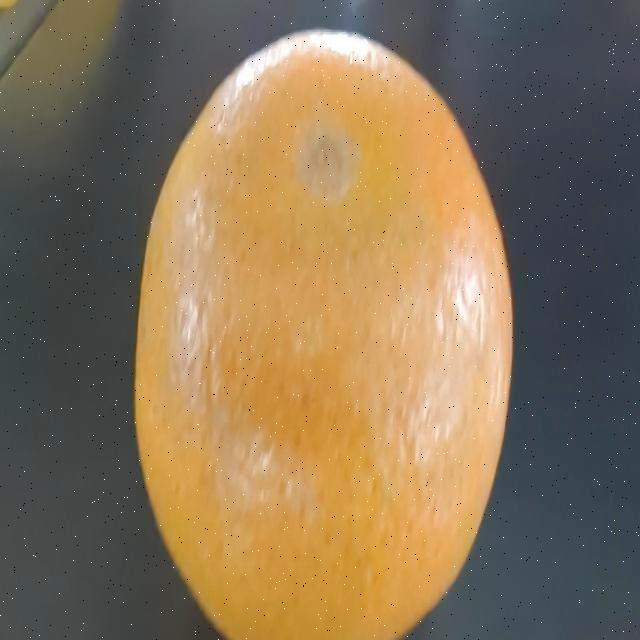Jeruk Mandarin: (139, 15, 516, 640)
